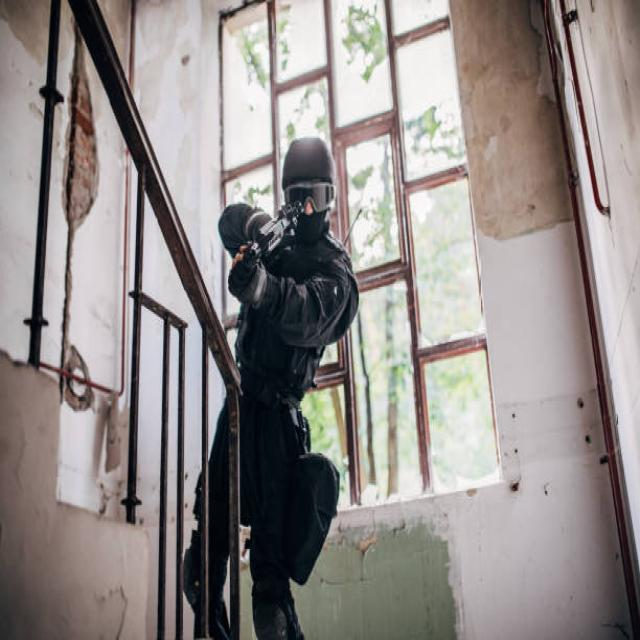soldier: (182, 136, 361, 640)
